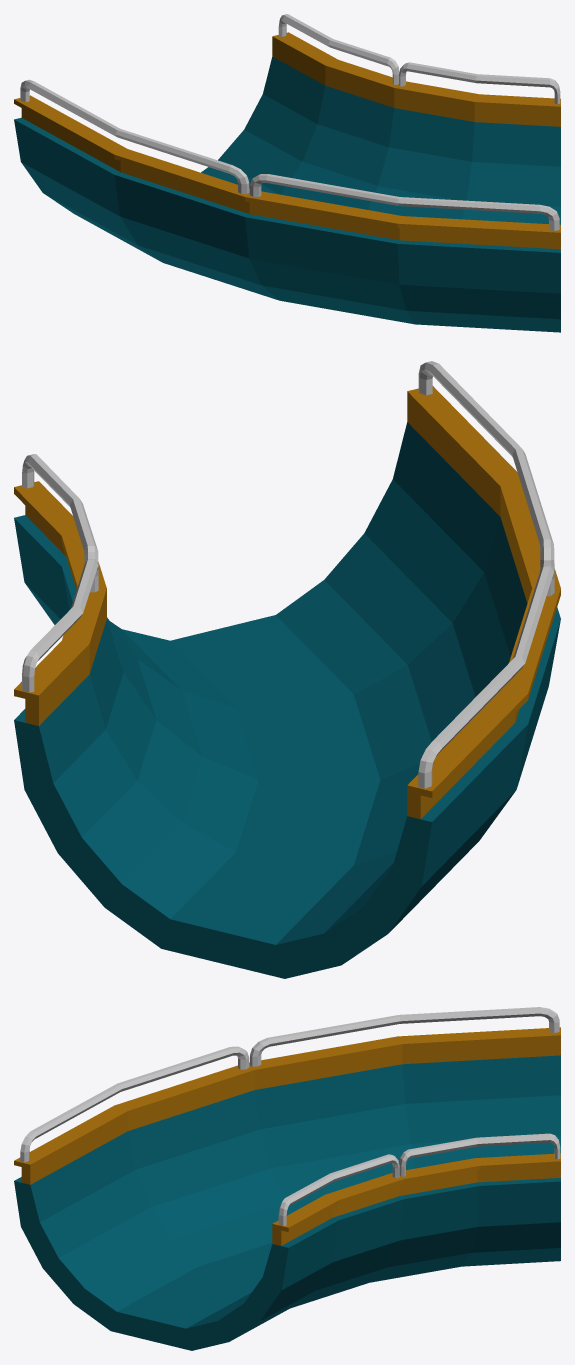
File: halfpipe-curveLeft-60_s.FBX
The picture shows the model from 3 angles, top to bottom: view 1: azimuth 30°, elevation 25°; view 2: azimuth 150°, elevation 25°; view 3: azimuth 270°, elevation 25°; orthographic projection. The views are drawn at different scales.
Visible parts, largest first — view 1: halfpipe-curveLeft-60_s, wall_r, wall_l; view 2: halfpipe-curveLeft-60_s, wall_r, wall_l; view 3: halfpipe-curveLeft-60_s, wall_r, wall_l.
Part boxes in pixels (box(x1,y1,x2,y2)): halfpipe-curveLeft-60_s: box(14, 56, 560, 332); wall_r: box(14, 79, 560, 249); wall_l: box(272, 14, 560, 126); halfpipe-curveLeft-60_s: box(14, 422, 560, 978); wall_r: box(407, 361, 560, 819); wall_l: box(14, 454, 106, 725); halfpipe-curveLeft-60_s: box(14, 1055, 560, 1350); wall_r: box(14, 1007, 560, 1184); wall_l: box(272, 1133, 560, 1245).
Size of what is drawn, in the model's own units: 192 by 221 by 75.73.
